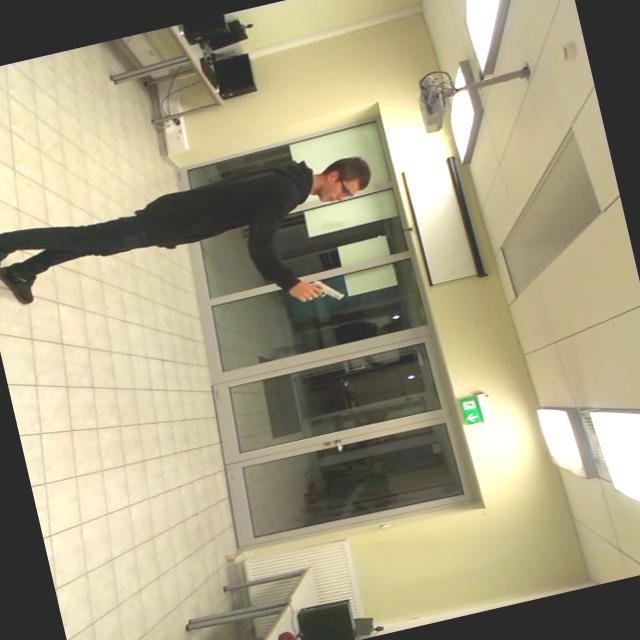handgun: (269, 256, 356, 322)
